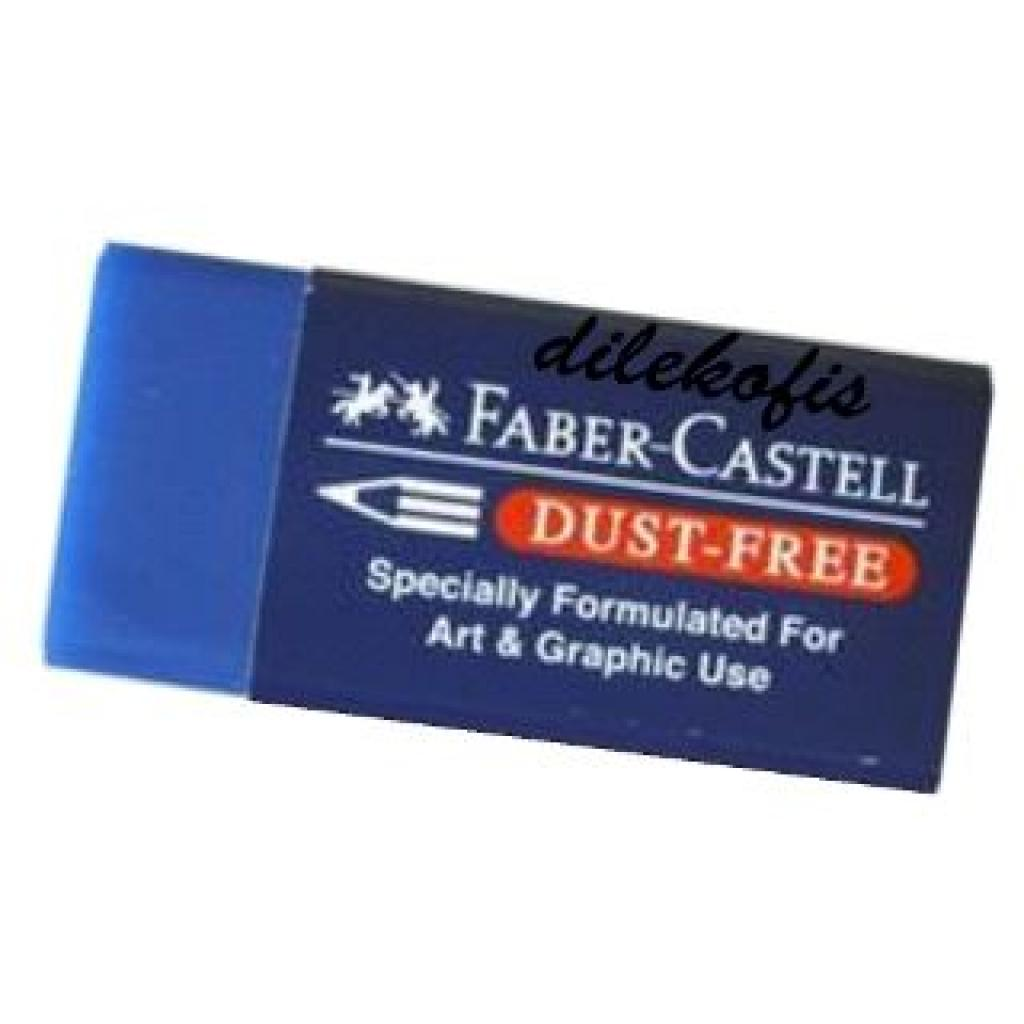eraser: (33, 222, 1006, 811)
